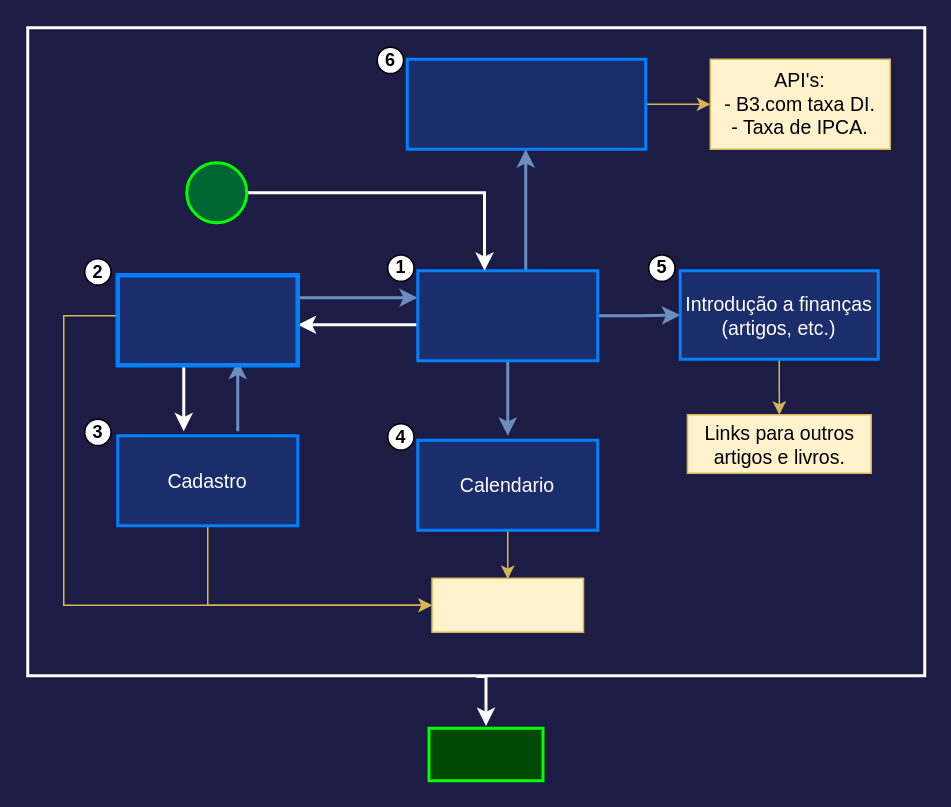
This 951x807 diagram has some shape labels left out. Here are the shapes that lost their labels. From the top down, the centre of each, then its label:
At (525,103): "Calculadoras (Juros compostos e simples) e simulador".
At (207,319): "Login".
At (507,315): "Home".
At (507,604): "API BD MySQL".
At (485,754): "Ads".
